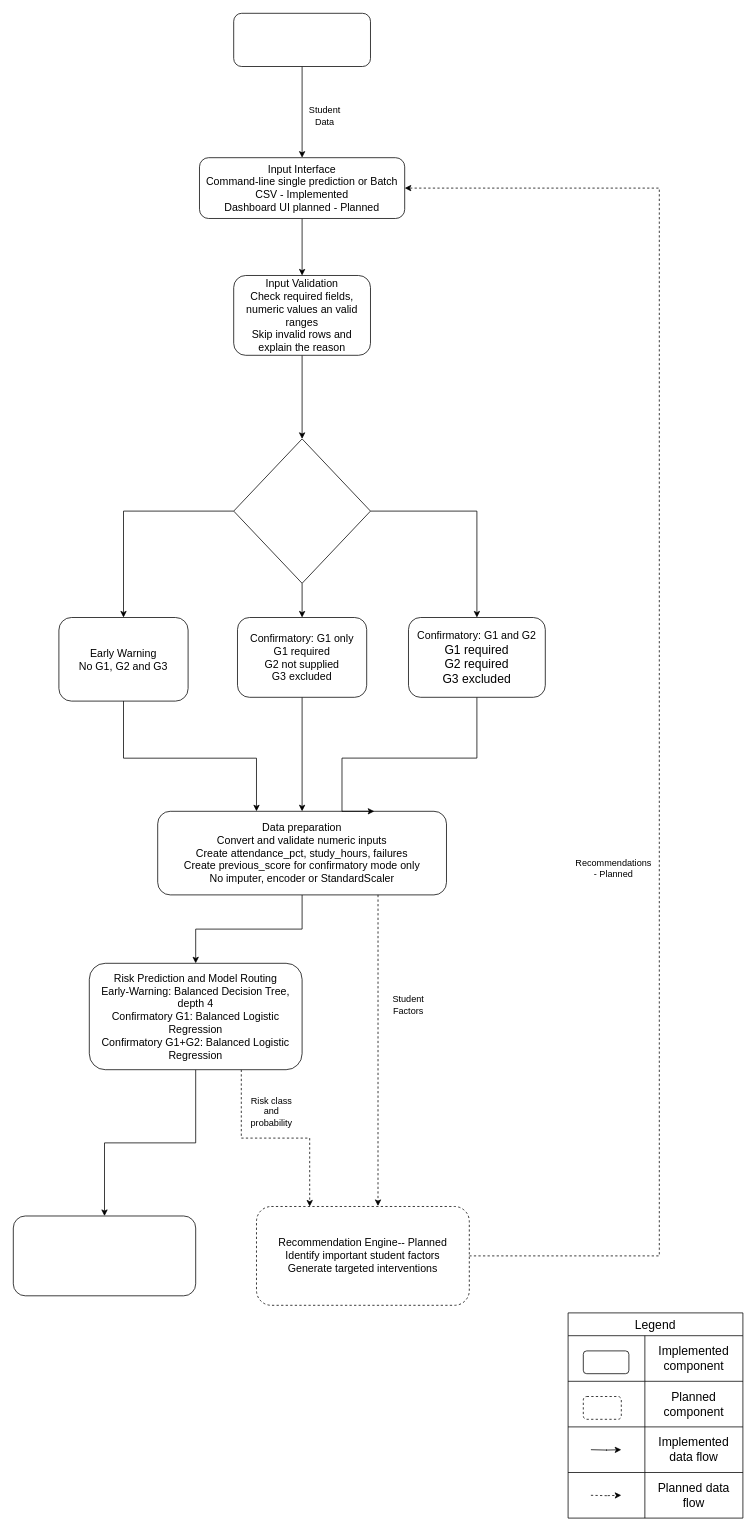
Image size: 756x1531. Some labels were removed from this diagram. Each missing label, with the centre of its shape:
Prediction Output- Implemented Risk class High-Risk probability Model used: point 104,1255
Route to Prediction Setup: point 301,510
Teacher or Academic Advisor: point 301,39
